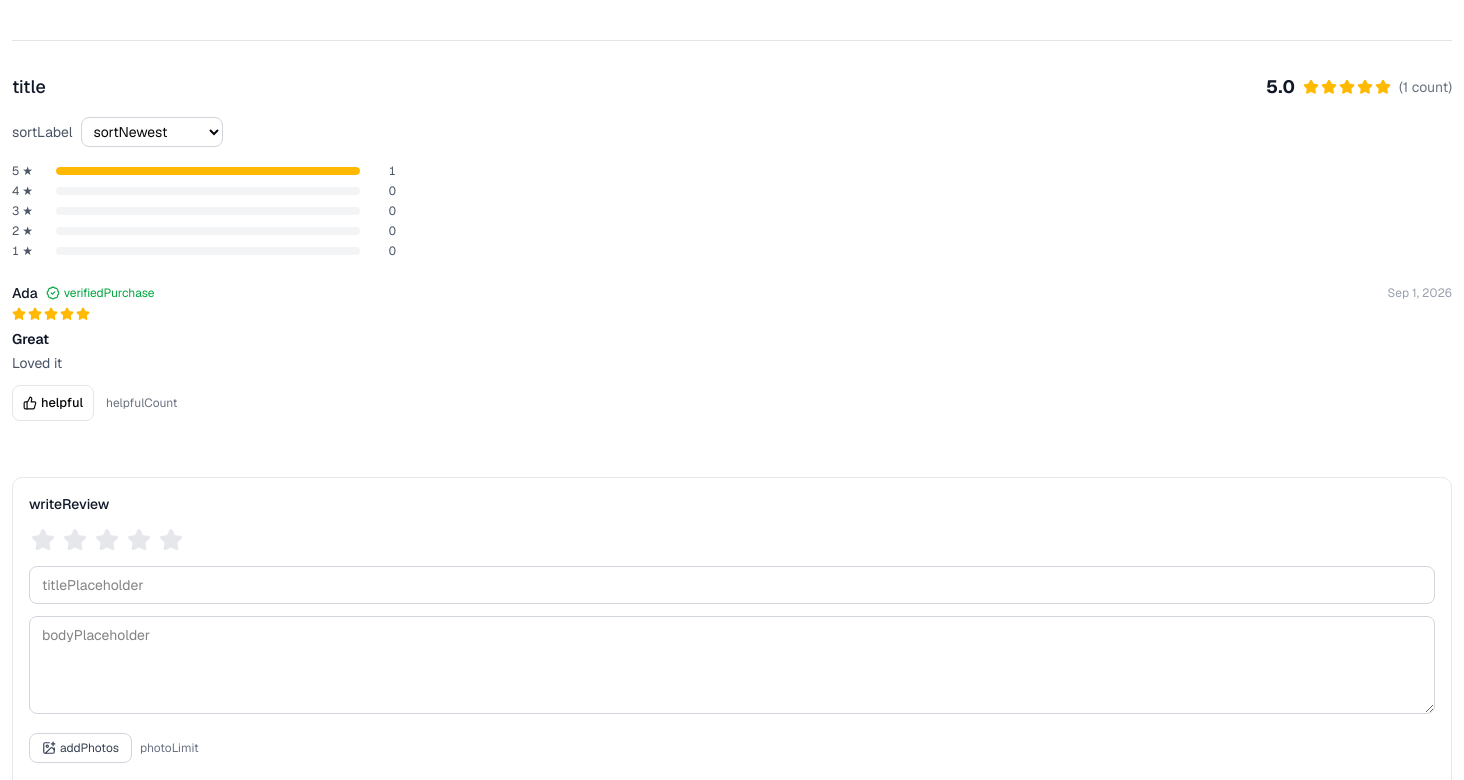
Test: ProductReviews helpful vote (F-5) › keeps the previous state when the vote fails
The width and height of the screenshot is (1464, 780).
Click the button with test id "review-helpful-rev_1" at x=53, y=403, box [12,385,94,421]
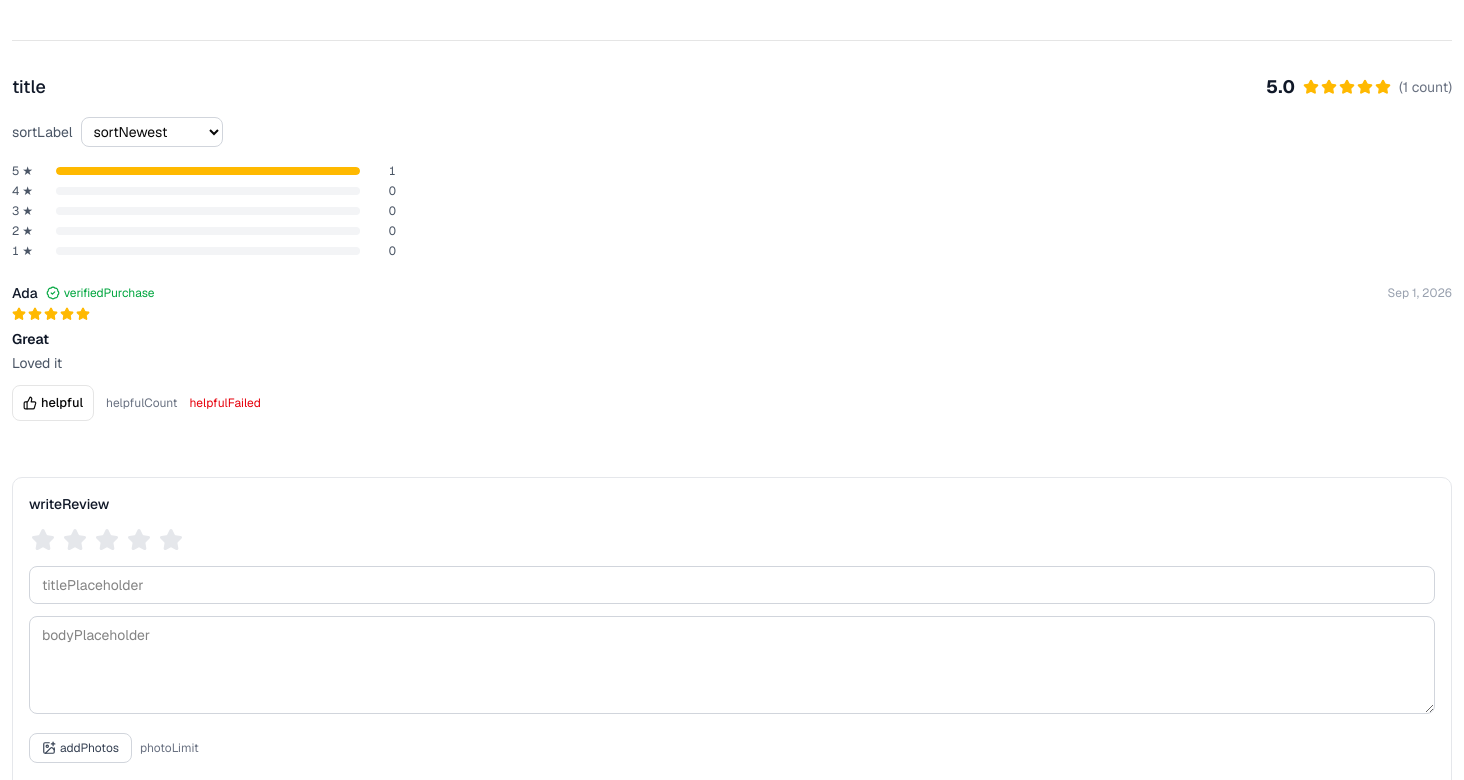
Expected: the text "helpfulFailed" is shown, [190,395,261,411]
